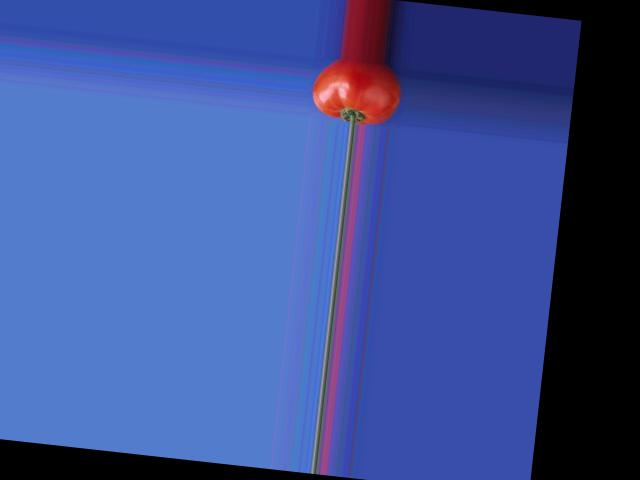tomato: (310, 54, 404, 128)
